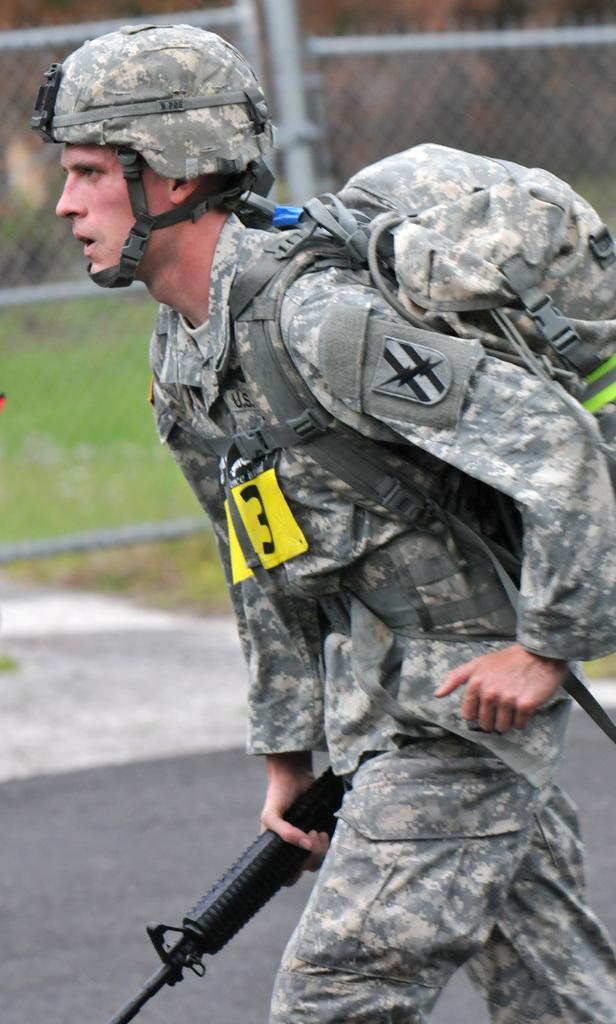Rifle: (101, 758, 348, 1023)
